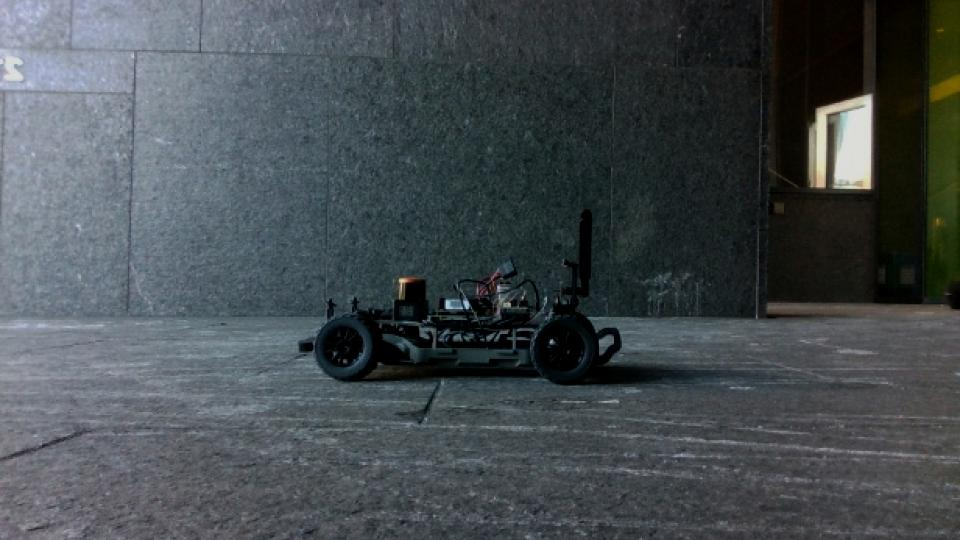car: (298, 206, 625, 387)
